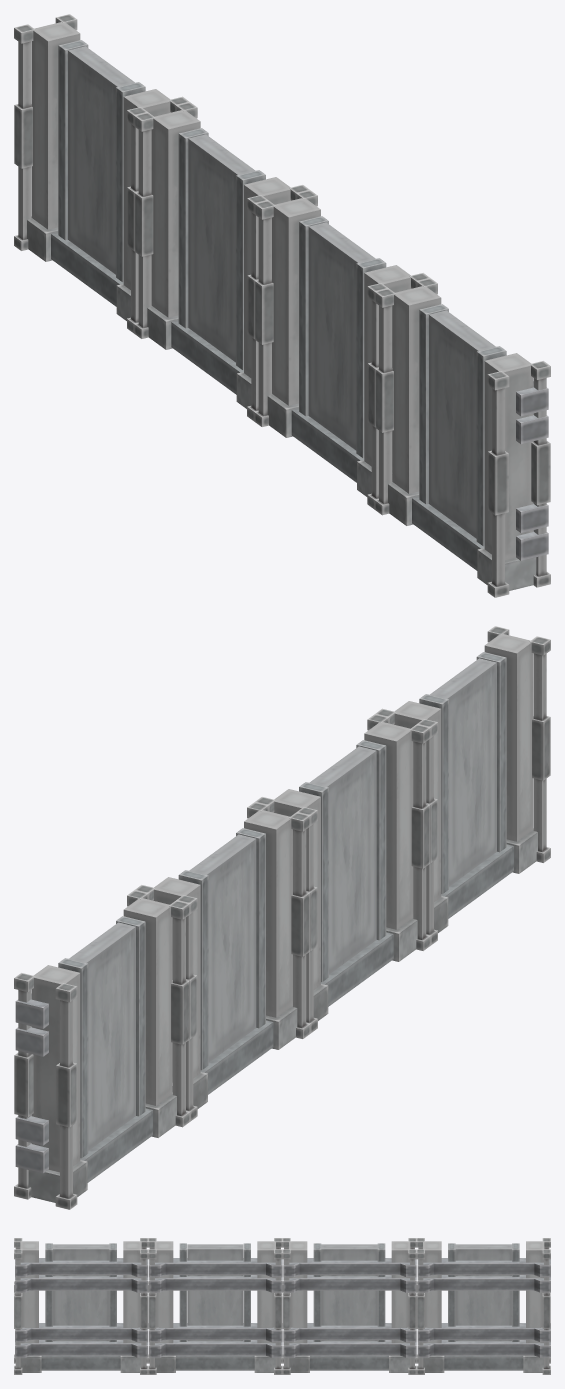
Rendered from Pfb_JALB_WallPart2_Line__2.fbx.
3 views of the same model, one above another, from view 1: azimuth 30°, elevation 25°; view 2: azimuth 150°, elevation 25°; view 3: azimuth 270°, elevation 25° (orthographic). The views are drawn at different scales.
Visible parts, largest first — view 1: MAT_Soda_Ironfame; view 2: MAT_Soda_Ironfame; view 3: MAT_Soda_Ironfame.
Part boxes in pixels (x1,y1,x2,y2): MAT_Soda_Ironfame: [14, 14, 550, 597]; MAT_Soda_Ironfame: [14, 626, 550, 1209]; MAT_Soda_Ironfame: [14, 1238, 550, 1374].
Bounding box in the file's own units: 1.07 × 4 × 16.
1 material, 1 textured.
